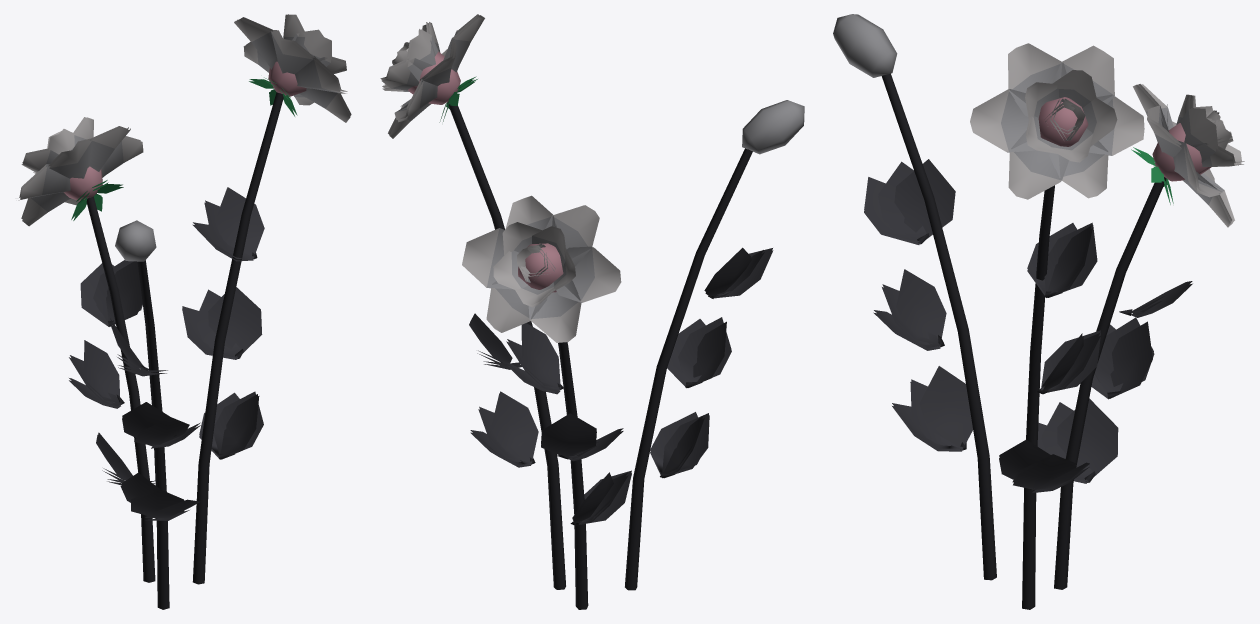
Rendered from ing_ashen_rose.gltf.
3 views of the same model, side by side, from view 1: azimuth 30°, elevation 25°; view 2: azimuth 150°, elevation 25°; view 3: azimuth 270°, elevation 25° (orthographic). The views are drawn at different scales.
Parts seen in each view (by area): view 1: ing_ashen_rose; view 2: ing_ashen_rose; view 3: ing_ashen_rose.
Part boxes in pixels (left/top/right/bottom): ing_ashen_rose: left=18, top=14, right=351, bottom=609; ing_ashen_rose: left=380, top=14, right=804, bottom=609; ing_ashen_rose: left=833, top=14, right=1244, bottom=609.
Size of what is drawn, in the model's own units: 0.3967 by 0.65 by 0.3998.
